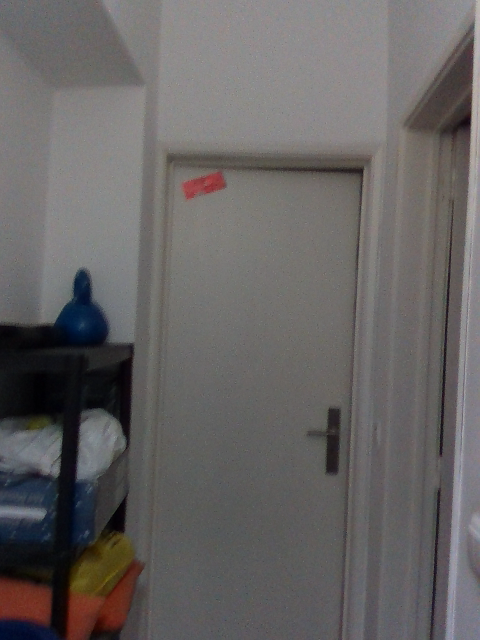closed: (120, 141, 386, 638)
